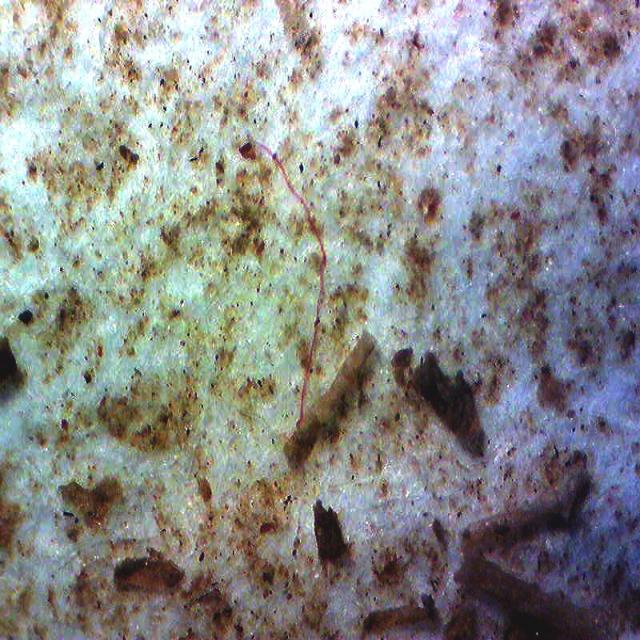microplastic: (261, 143, 327, 424)
